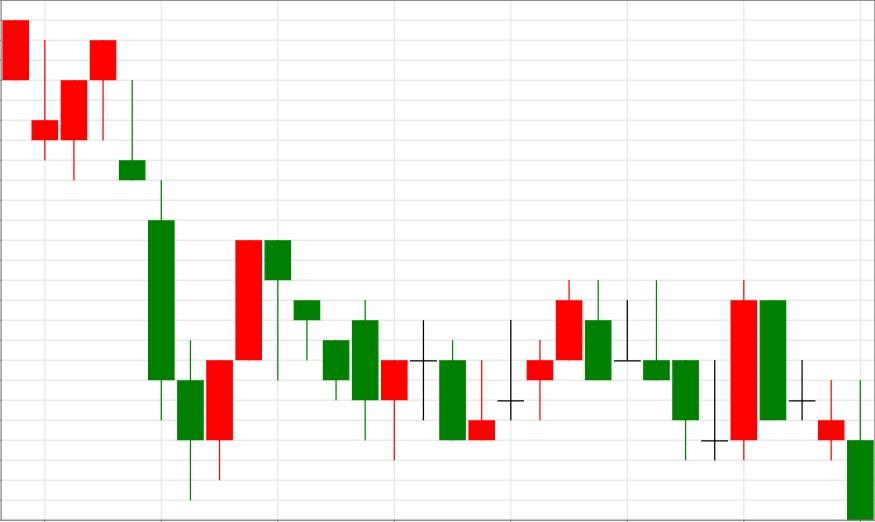hanging_man_fall: (176, 239, 292, 500)
inverse_hammer_rise: (351, 299, 496, 460)
morning_star_rise: (555, 279, 758, 461)
